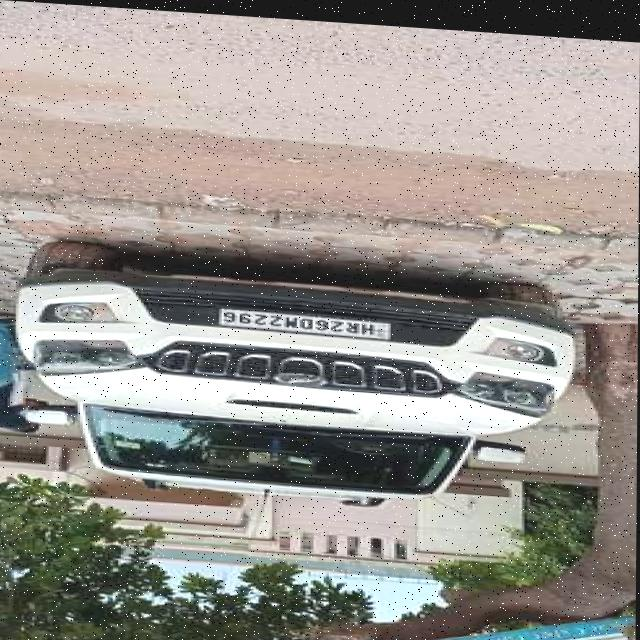plate: (216, 304, 396, 337)
